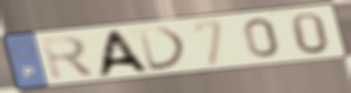0: (287, 11, 333, 56), (241, 16, 285, 60)
7: (191, 19, 228, 68)
A: (93, 28, 154, 79)
D: (135, 25, 191, 73)
R: (38, 34, 99, 83)
